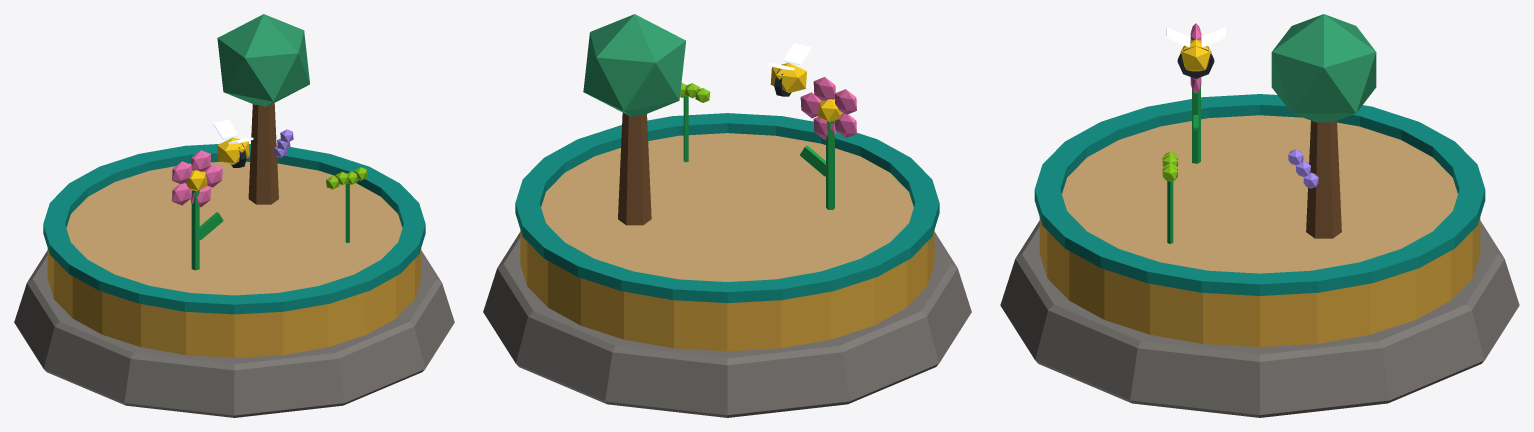
The model's file is stasiun_simbiosis_v001.glb.
3 views of the same model, side by side, from view 1: azimuth 30°, elevation 25°; view 2: azimuth 150°, elevation 25°; view 3: azimuth 270°, elevation 25° (orthographic). The views are drawn at different scales.
Parts seen in each view (by area): view 1: Stasiun_Simbiosis; view 2: Stasiun_Simbiosis; view 3: Stasiun_Simbiosis.
Boxes of the visible parts, x1,y1,x2,y2 form: Stasiun_Simbiosis: [14, 14, 454, 417]; Stasiun_Simbiosis: [483, 14, 971, 417]; Stasiun_Simbiosis: [1000, 14, 1519, 417].
Bounding box in the file's own units: 2.03 × 1.41 × 2.03.
